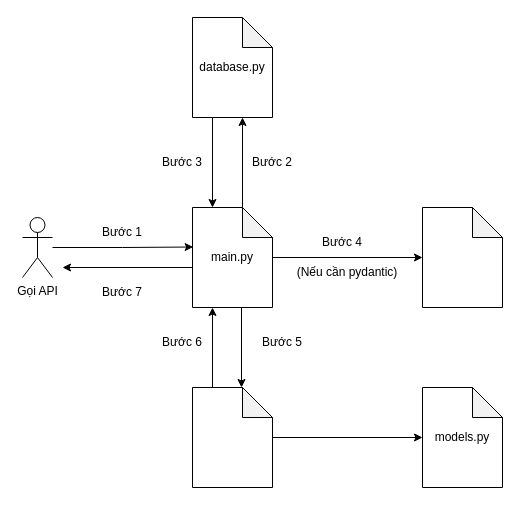
Some shapes in this 520 by 505 pixel diagram are drawn without their labels. The shapes that lost their labels are listed below. From the top down, each one's centre as x and y in pixels, then its label:
At (x=462, y=257): "shemas.py".
At (x=232, y=437): "services.py".
